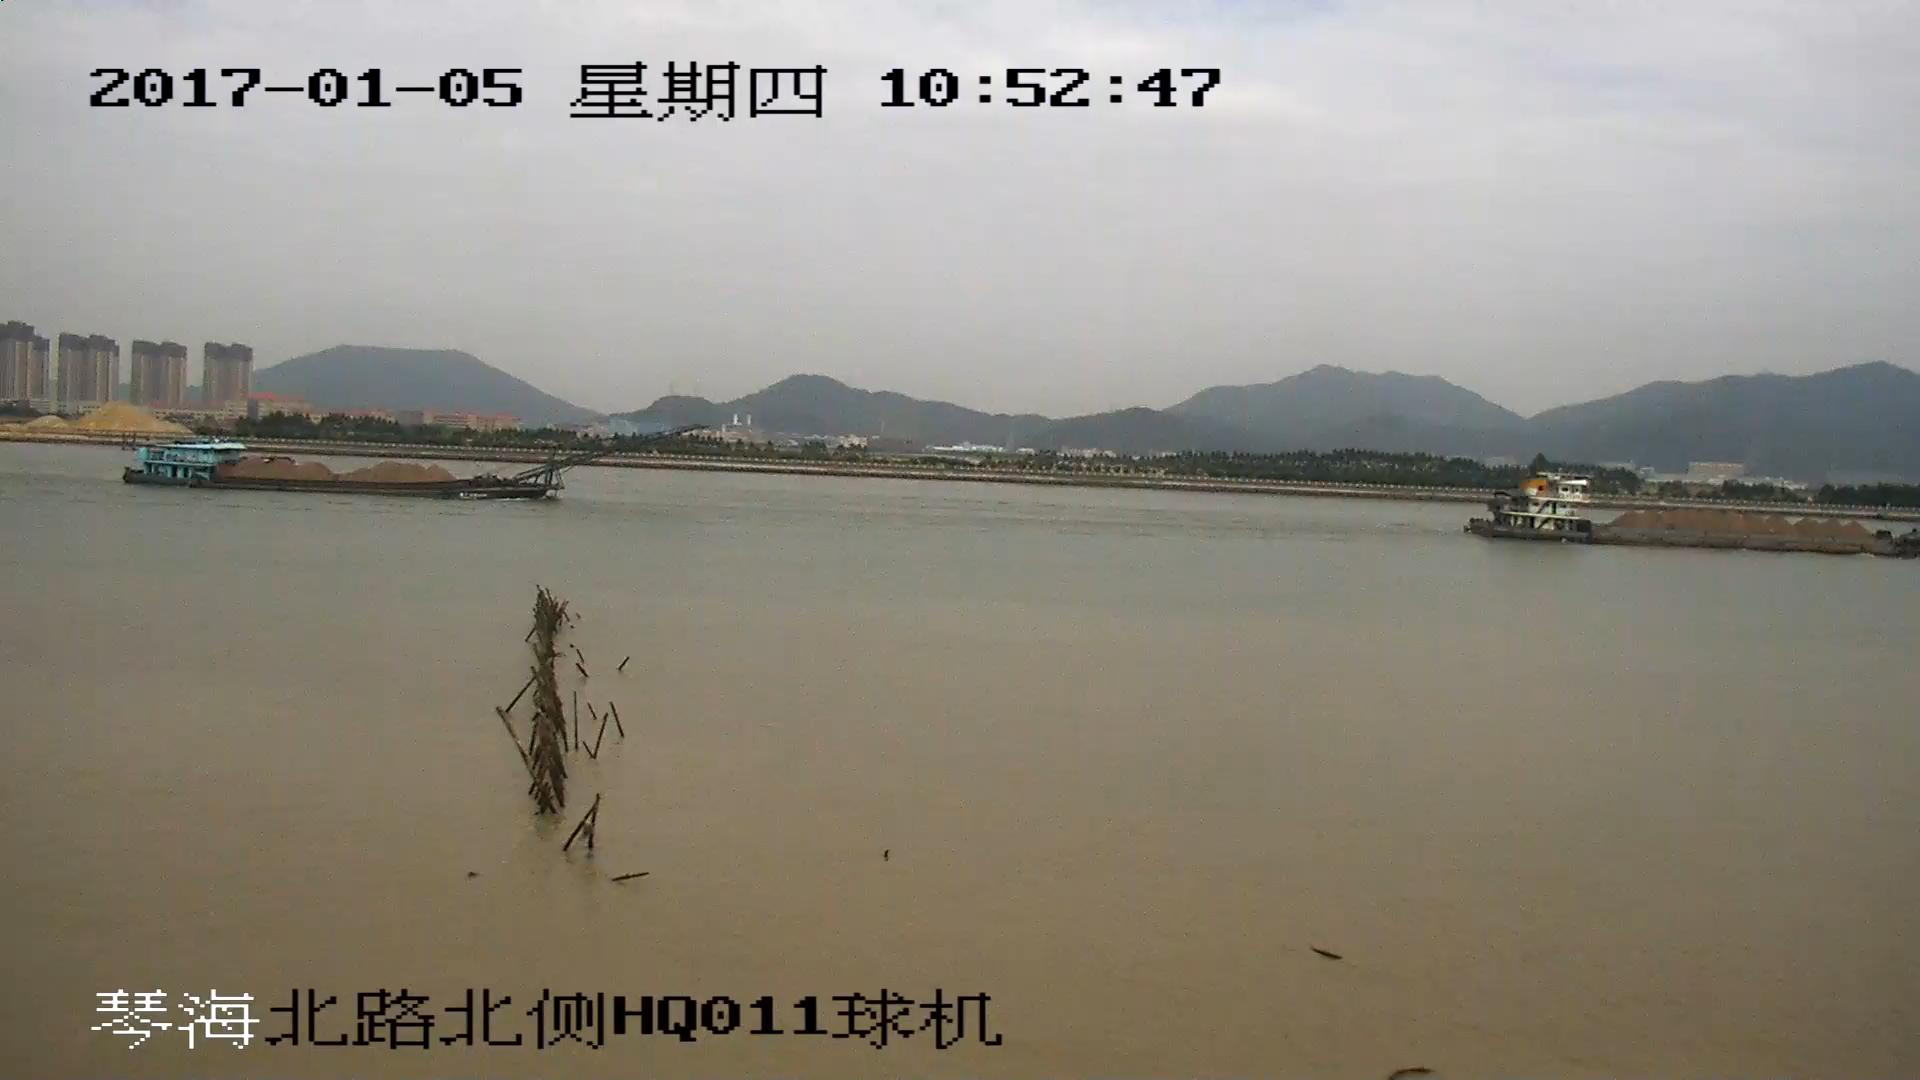ore carrier: (124, 422, 698, 490), (1468, 474, 1920, 551)
